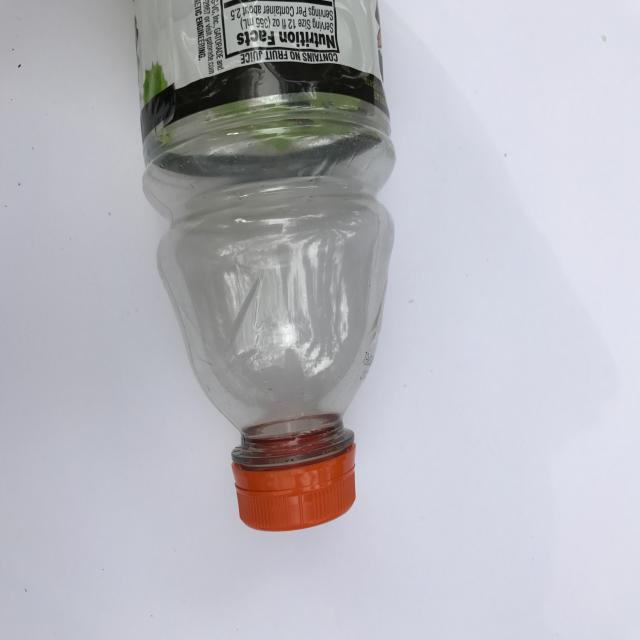plastic: (69, 0, 514, 501)
